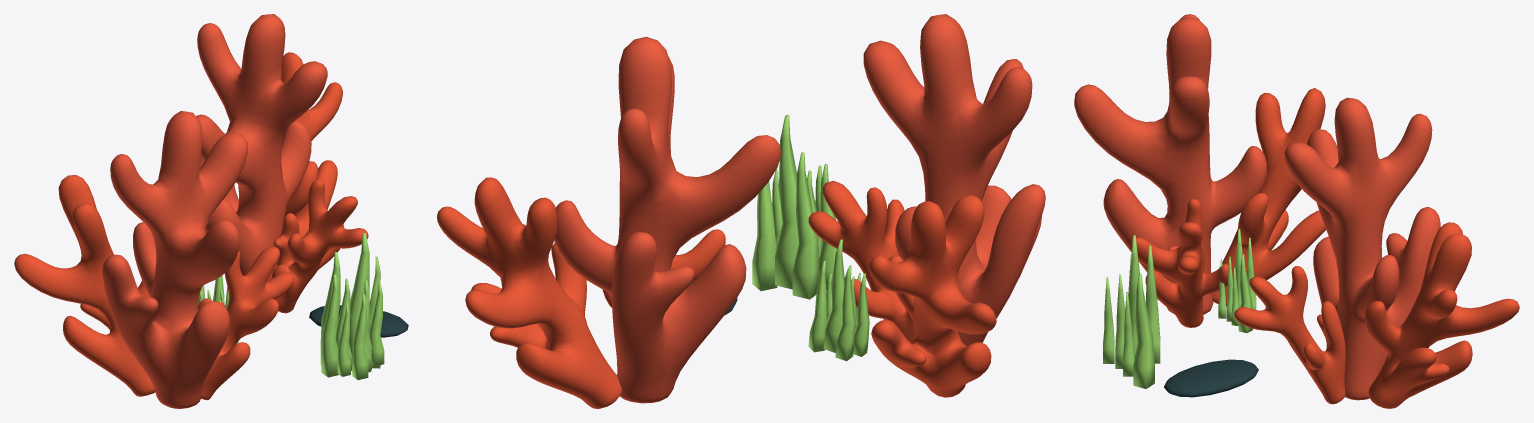
The model's file is coral-enviornment.glb.
3 renders of one model, left to right at view 1: azimuth 30°, elevation 25°; view 2: azimuth 150°, elevation 25°; view 3: azimuth 270°, elevation 25°, orthographic. The views are drawn at different scales.
Visible parts, largest first — view 1: Coral, Coral.001, grass.001, stone, grass; view 2: Coral.001, Coral, grass.001, grass; view 3: Coral.001, Coral, grass.001, stone, grass.
Part boxes in pixels (box(x1,y1,x2,y2)): Coral: box(14, 111, 294, 408); Coral.001: box(196, 14, 368, 313); grass.001: box(320, 232, 384, 380); stone: box(309, 305, 408, 337); grass: box(198, 276, 238, 344); Coral.001: box(437, 36, 781, 408); Coral: box(808, 14, 1045, 397); grass.001: box(752, 115, 837, 299); grass: box(808, 239, 869, 361); Coral.001: box(1234, 97, 1519, 408); Coral: box(1074, 14, 1337, 327); grass.001: box(1103, 235, 1160, 388); stone: box(1164, 359, 1258, 397); grass: box(1218, 229, 1256, 333).
Size of the model in its own units: 5.94 by 4.25 by 5.74.
